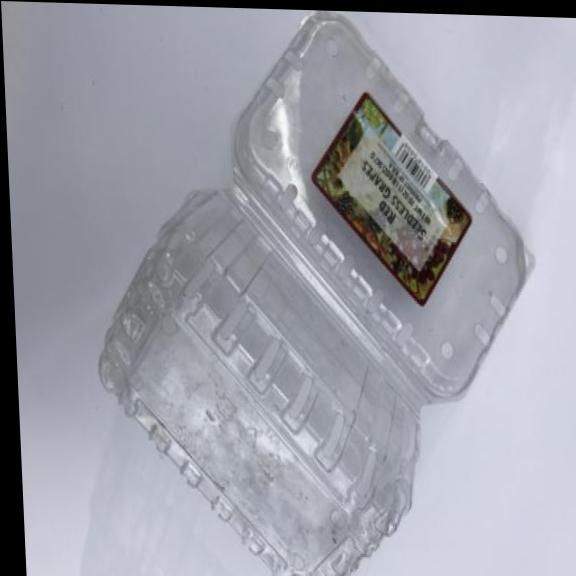Plastik: (87, 179, 431, 576), (220, 10, 545, 412)
